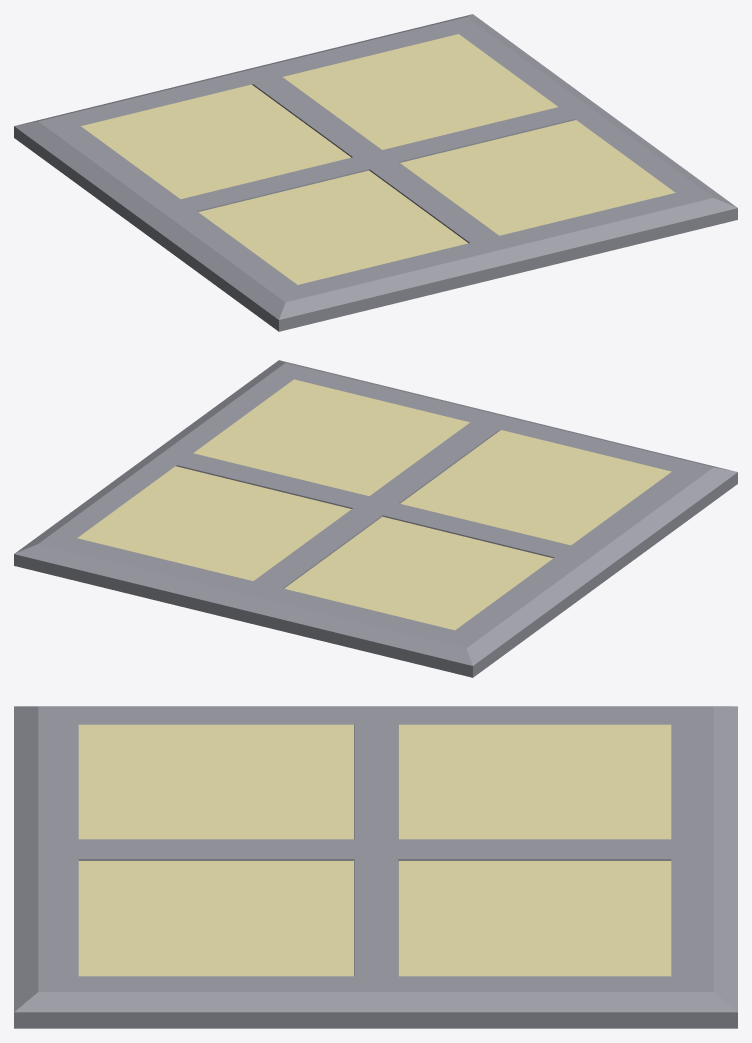
The model's file is Light.fbx.
3 views of the same model, one above another, from view 1: azimuth 30°, elevation 25°; view 2: azimuth 150°, elevation 25°; view 3: azimuth 270°, elevation 25° (orthographic). The views are drawn at different scales.
Parts seen in each view (by area): view 1: Cube, Cube.001; view 2: Cube, Cube.001; view 3: Cube, Cube.001.
Boxes of the visible parts, x1,y1,x2,y2 form: Cube: (81,34,675,284); Cube.001: (14,14,737,331); Cube: (77,379,671,630); Cube.001: (14,360,737,677); Cube: (78,724,671,976); Cube.001: (14,706,737,1028).
Bounding box in the file's own units: 222 × 8.9 × 222.
